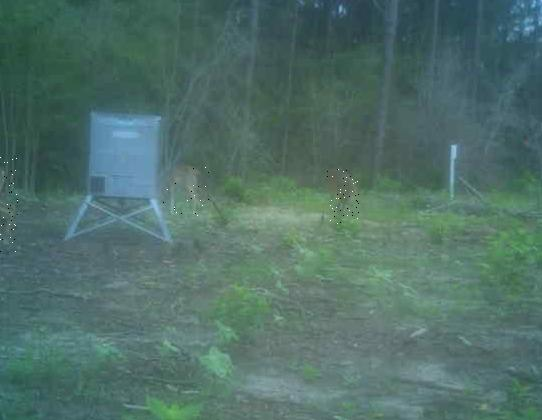Deer: (160, 163, 212, 217), (327, 167, 359, 227), (0, 154, 19, 252)
